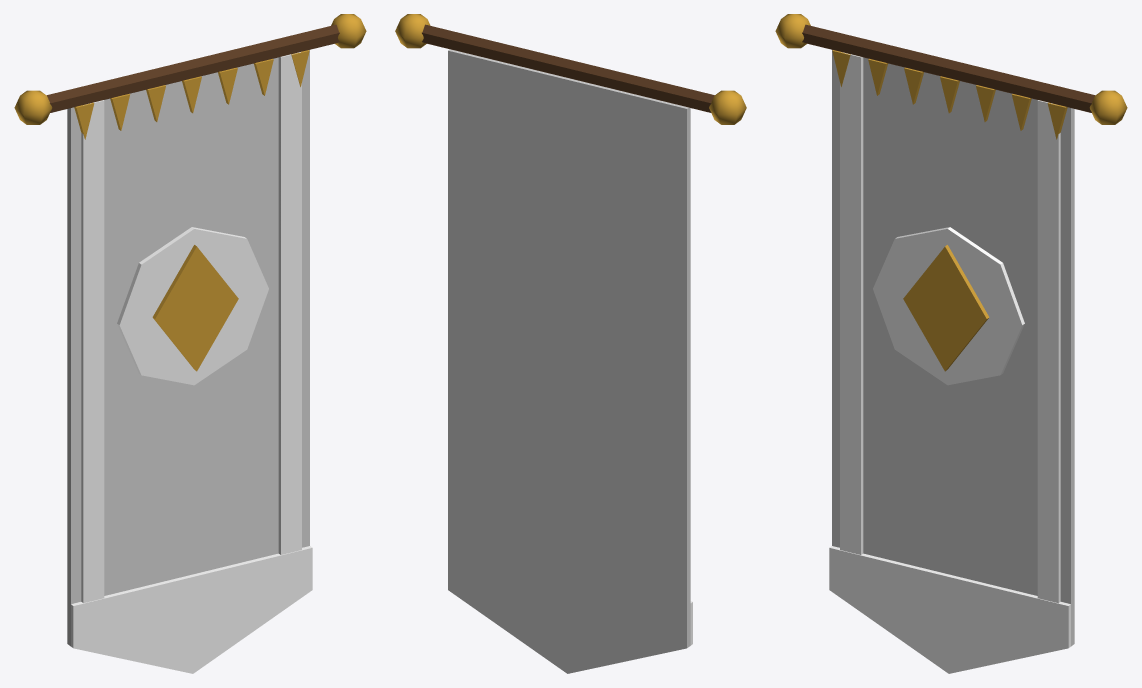
Rendered from castle_tapestry.glb.
3 renders of one model, left to right at view 1: azimuth 30°, elevation 25°; view 2: azimuth 150°, elevation 25°; view 3: azimuth 330°, elevation 25°, orthographic.
Parts seen in each view (by area): view 1: castle_tapestry; view 2: castle_tapestry; view 3: castle_tapestry.
Boxes of the visible parts, bbox=[...] form: castle_tapestry: bbox=[14, 14, 366, 673]; castle_tapestry: bbox=[395, 14, 746, 673]; castle_tapestry: bbox=[775, 14, 1127, 673].
Bounding box in the file's own units: 2.29 × 3.96 × 0.22.
